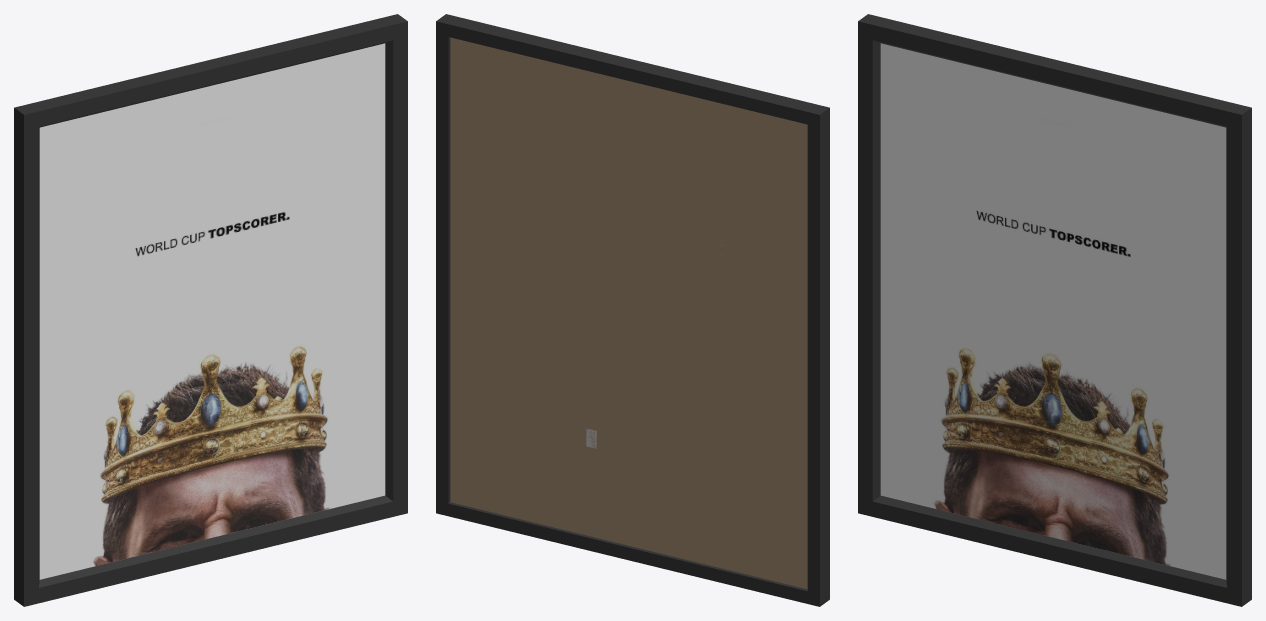
Rendered from messi-world-cup-topscorer-40x50.glb.
The picture shows the model from 3 angles, left to right: view 1: azimuth 30°, elevation 25°; view 2: azimuth 150°, elevation 25°; view 3: azimuth 330°, elevation 25°; orthographic projection.
Visible parts, largest first — view 1: LAWHA 40x50; view 2: LAWHA 40x50; view 3: LAWHA 40x50.
Part boxes in pixels (left/top/right/bottom): LAWHA 40x50: left=14, top=14, right=407, bottom=606; LAWHA 40x50: left=436, top=14, right=829, bottom=606; LAWHA 40x50: left=858, top=14, right=1251, bottom=606.
Bounding box in the file's own units: 0.444 × 0.544 × 0.02.
4 materials, 1 textured.
